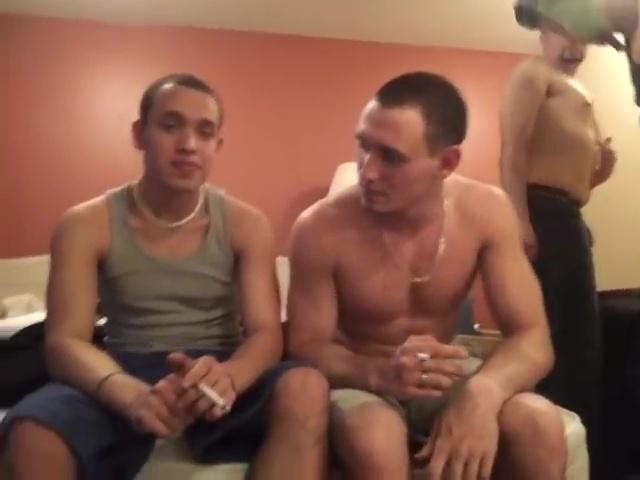cigarette: (193, 377, 231, 412), (411, 350, 436, 361)
